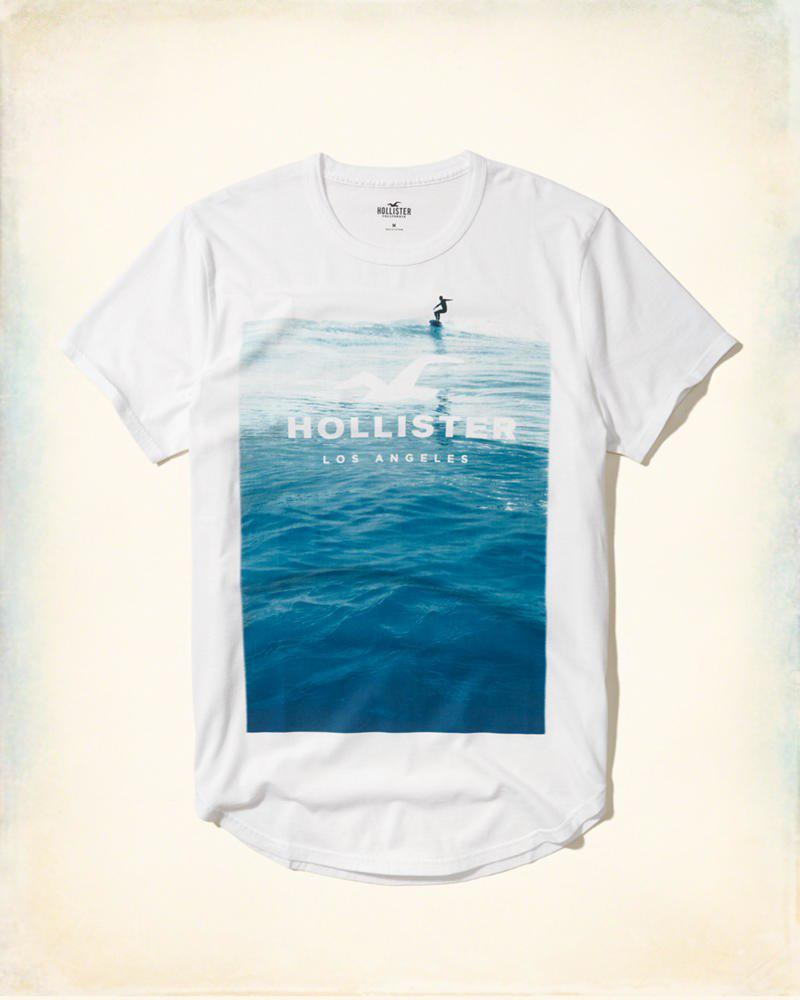teeshirt: (91, 140, 759, 877)
